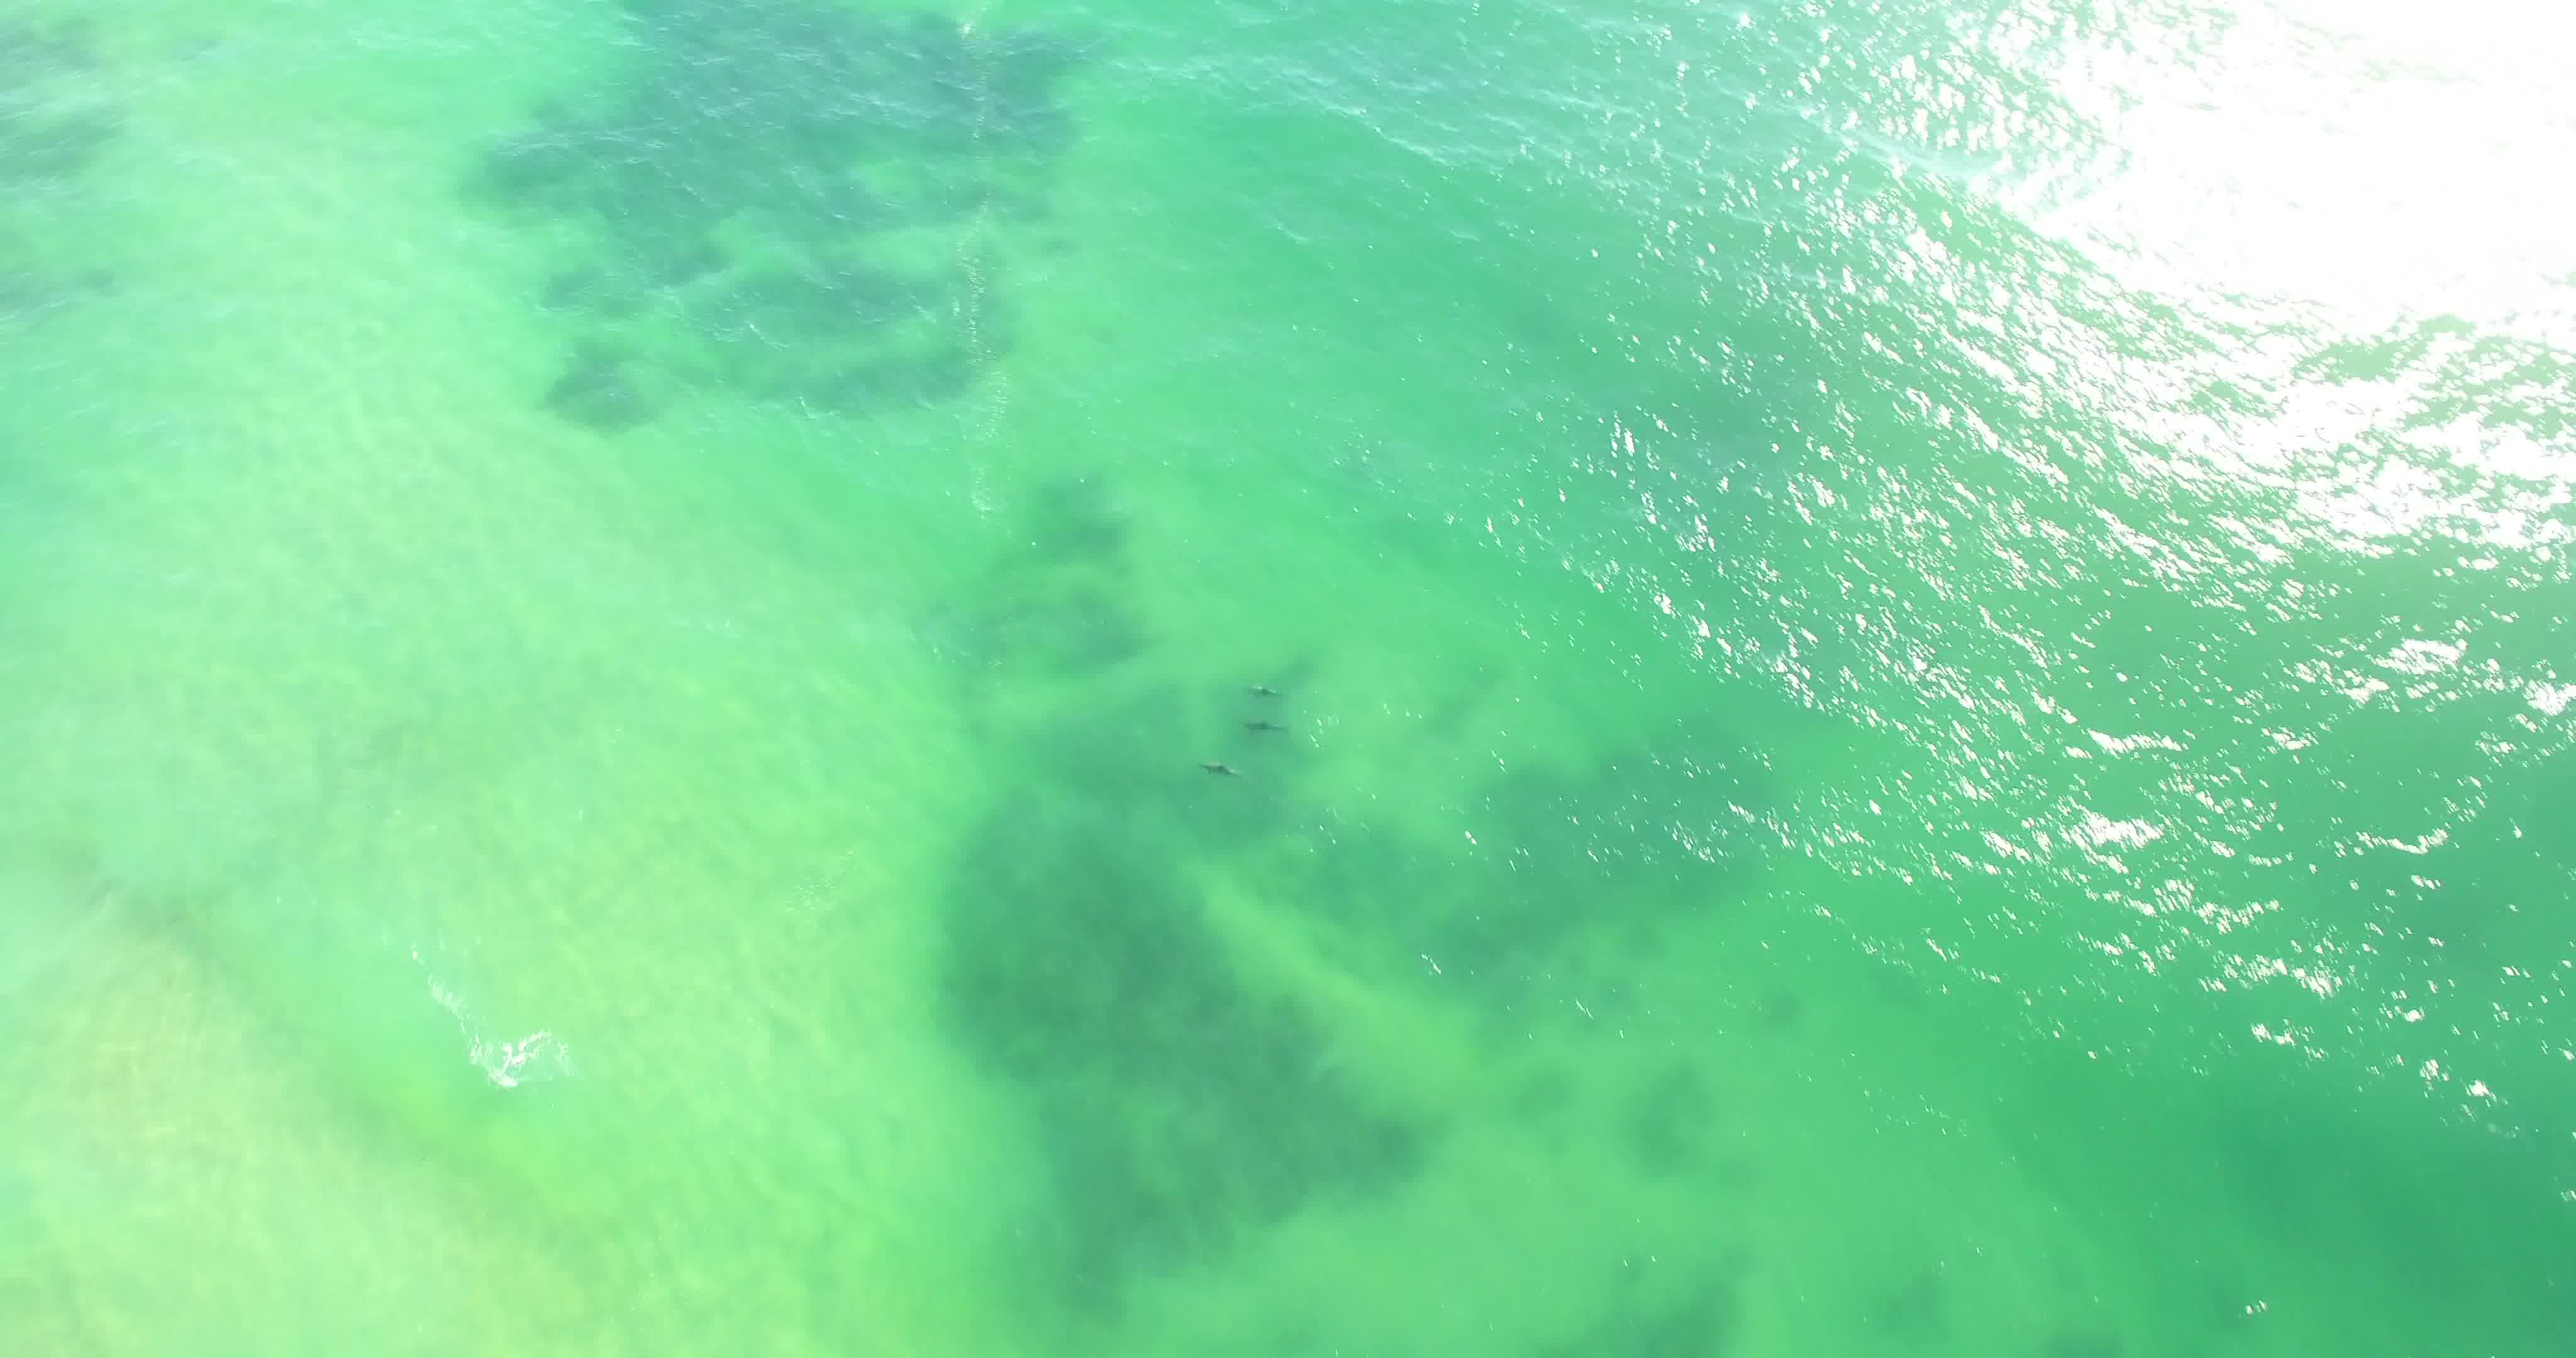dolphin: (1218, 665, 1303, 712), (1182, 741, 1259, 789), (1223, 705, 1303, 741)
